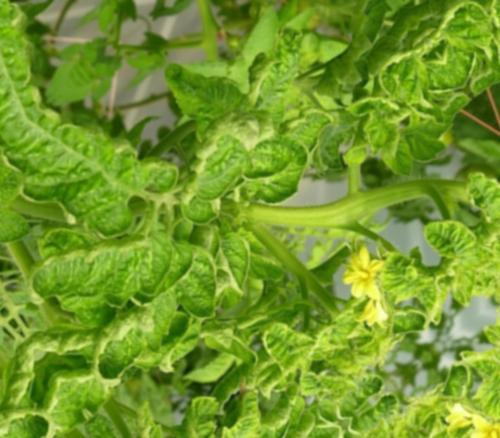Tomato leaf yellow virus: (0, 67, 187, 270), (18, 189, 183, 348), (216, 78, 366, 225), (147, 112, 270, 231), (129, 227, 249, 345), (188, 213, 277, 301), (409, 198, 487, 277), (250, 302, 326, 377), (439, 158, 500, 242), (194, 385, 286, 438)
